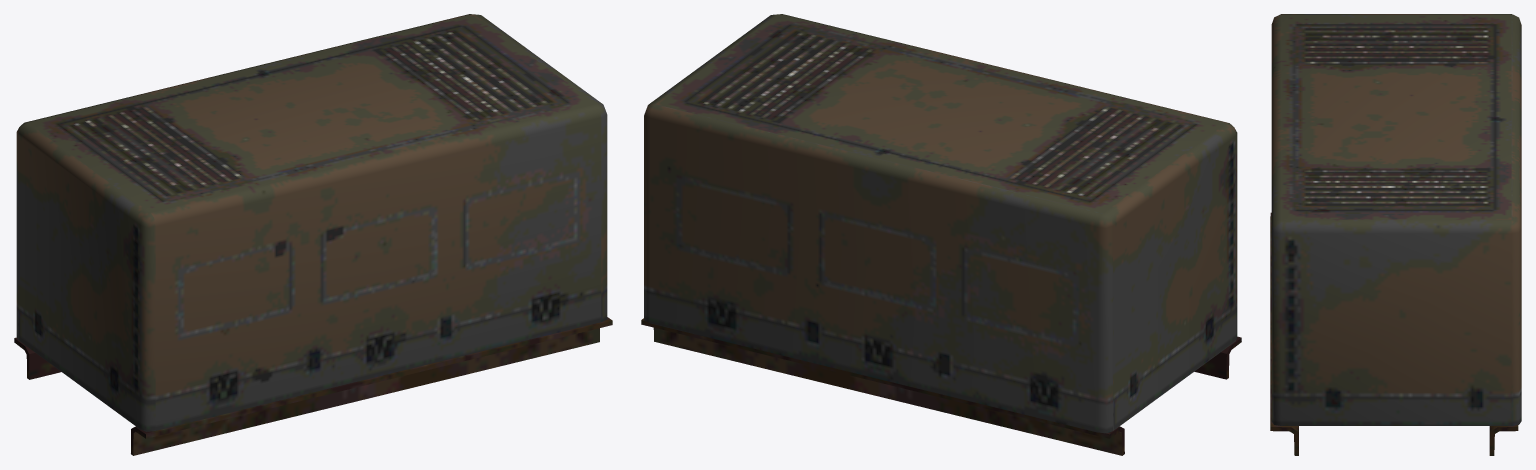
Rendered from militalycratea002_militarycrate_d_0_lev1.glb.
3 renders of one model, left to right at view 1: azimuth 30°, elevation 25°; view 2: azimuth 150°, elevation 25°; view 3: azimuth 270°, elevation 25°, orthographic. The views are drawn at different scales.
Visible parts, largest first — view 1: militalycratea002_militarycrate_d_0_lev1; view 2: militalycratea002_militarycrate_d_0_lev1; view 3: militalycratea002_militarycrate_d_0_lev1.
Part boxes in pixels (x1,y1,x2,y2): militalycratea002_militarycrate_d_0_lev1: (14,14,612,455); militalycratea002_militarycrate_d_0_lev1: (641,14,1241,455); militalycratea002_militarycrate_d_0_lev1: (1270,14,1521,455).
Bounding box in the file's own units: 2.14 × 1.08 × 1.06.
Materials: 1 (1 with a texture image).
